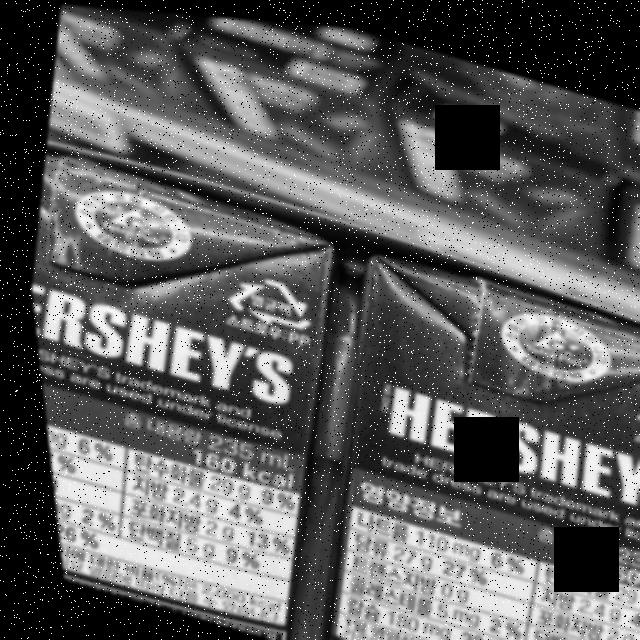SterilizedPack: (212, 261, 312, 332), (614, 370, 640, 431)
